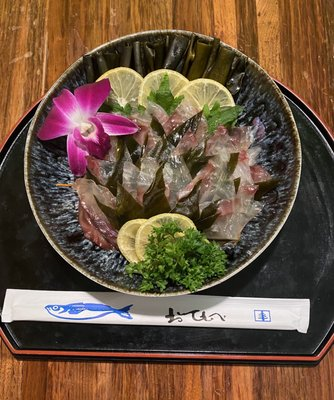curry: (122, 215, 231, 294)
sushi: (14, 29, 331, 297)
